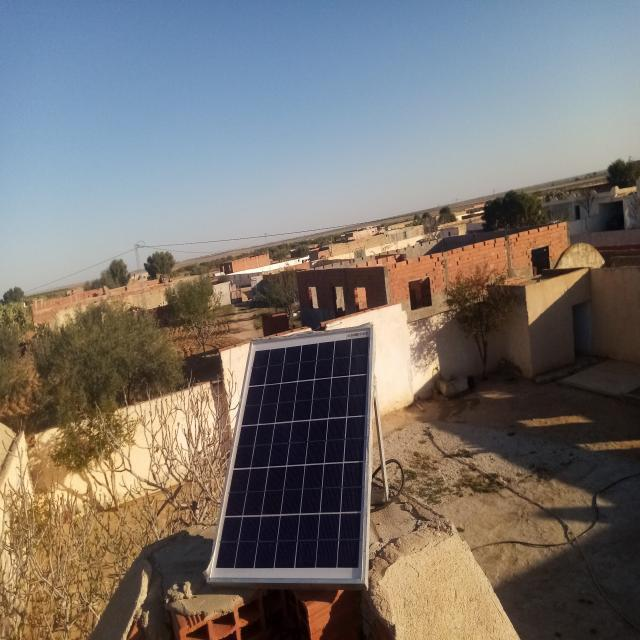Normal Solar Panel: (211, 326, 371, 581)
